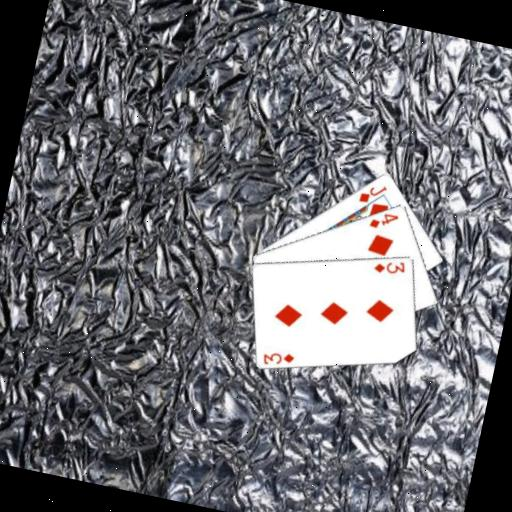3D: (370, 252, 408, 279), (258, 345, 297, 371)
4D: (365, 206, 401, 234)
JD: (355, 177, 389, 207)
